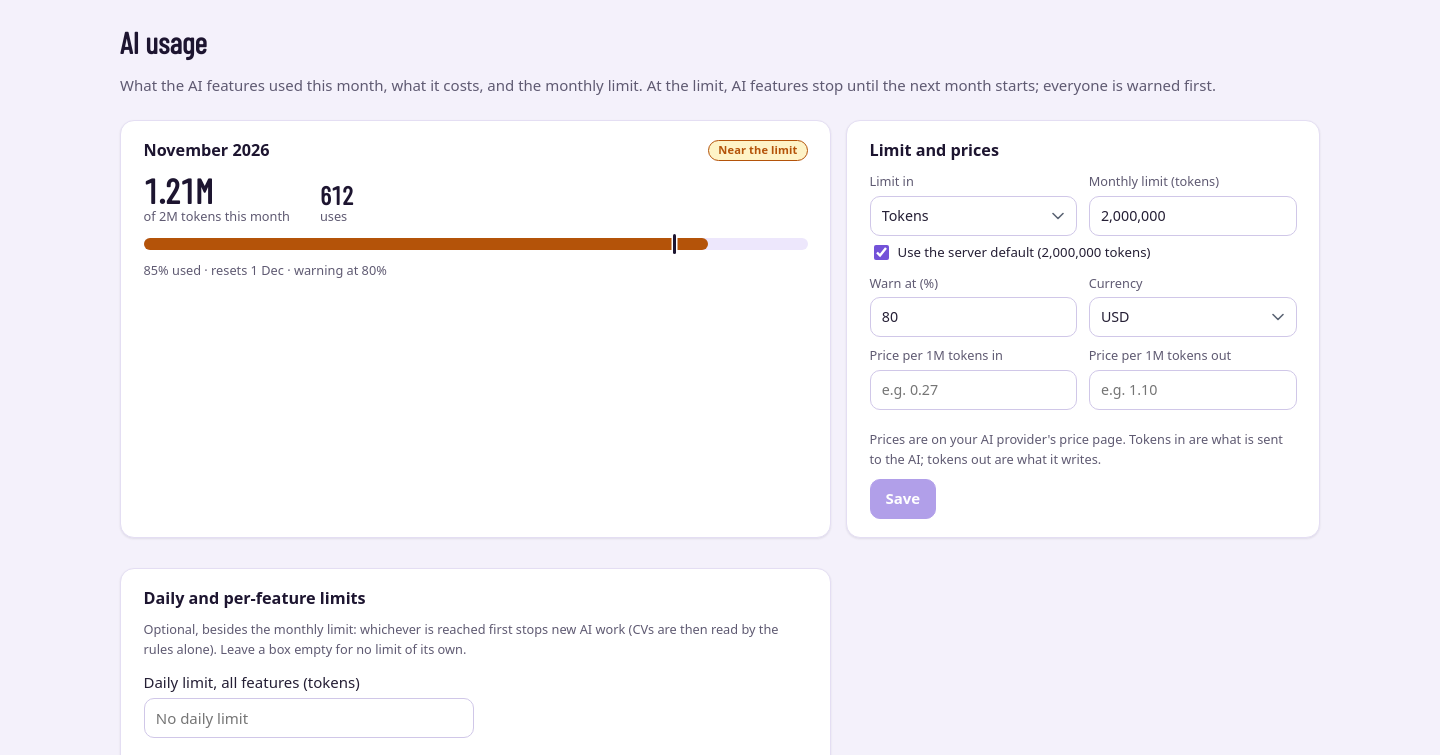
Test: Settings › AI usage › saves a money limit with its prices
Select "Money" in the dropdown labelled "Limit in": (973, 216) [870, 196, 1077, 236]
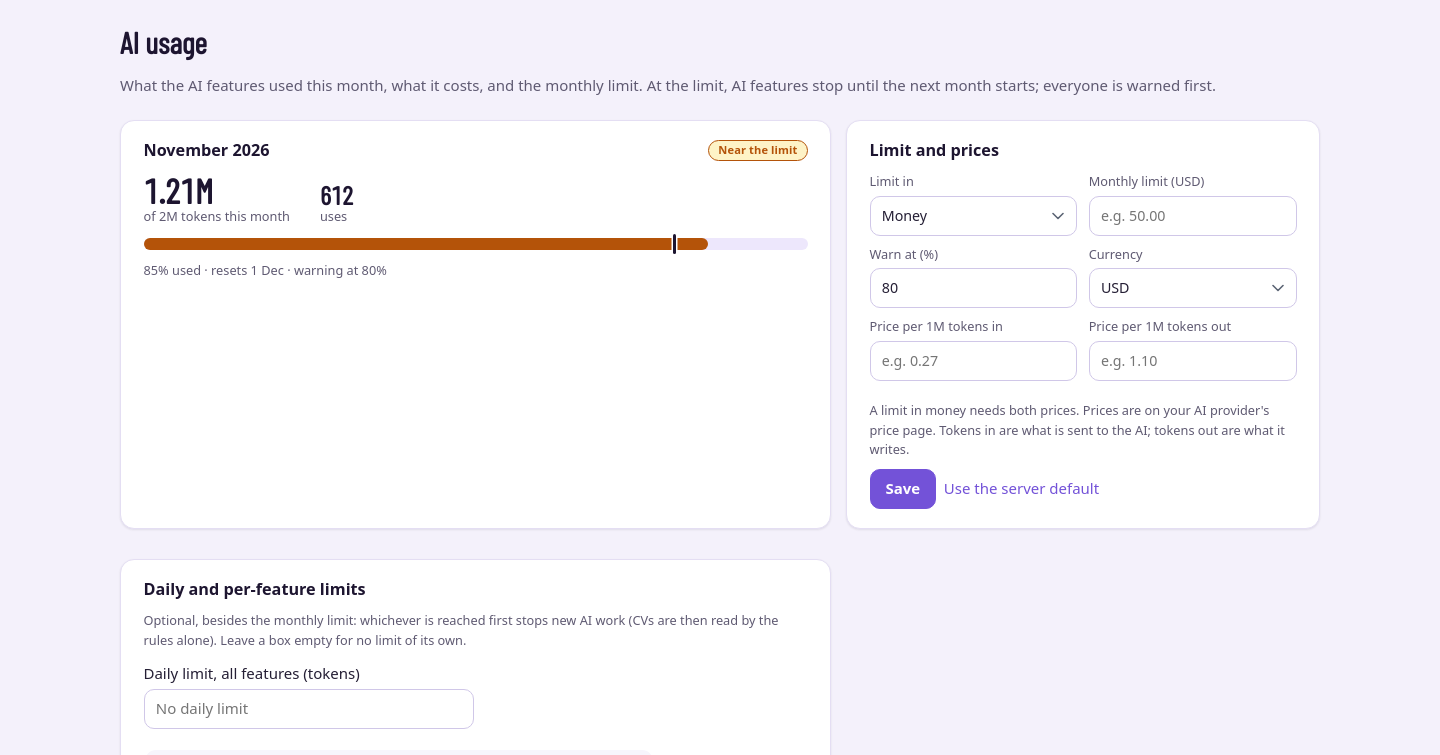
In the field labelled "Monthly limit (USD)": (1193, 216) [1089, 196, 1296, 236], type "1,000.50"
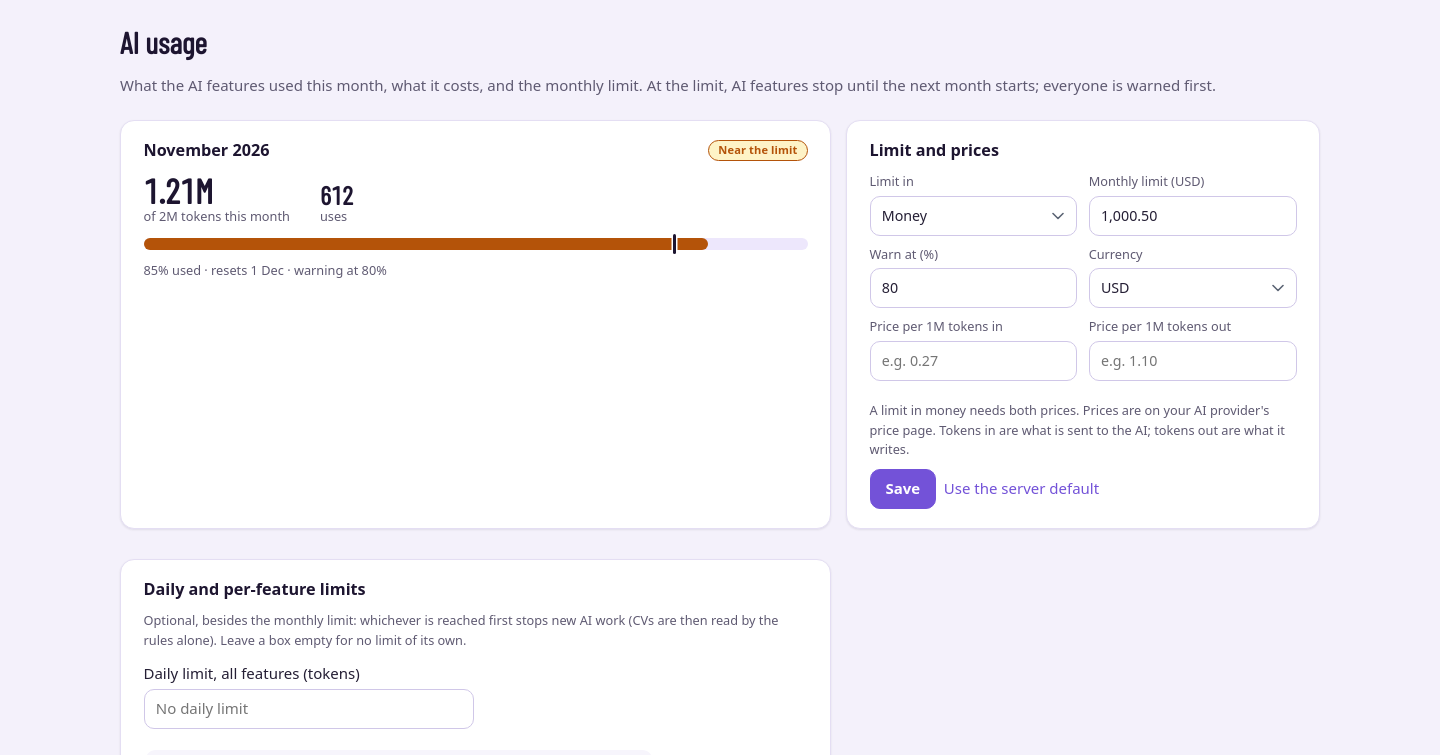
In the field labelled "Price per 1M tokens in": (973, 361) [870, 341, 1077, 381], type "0.27"
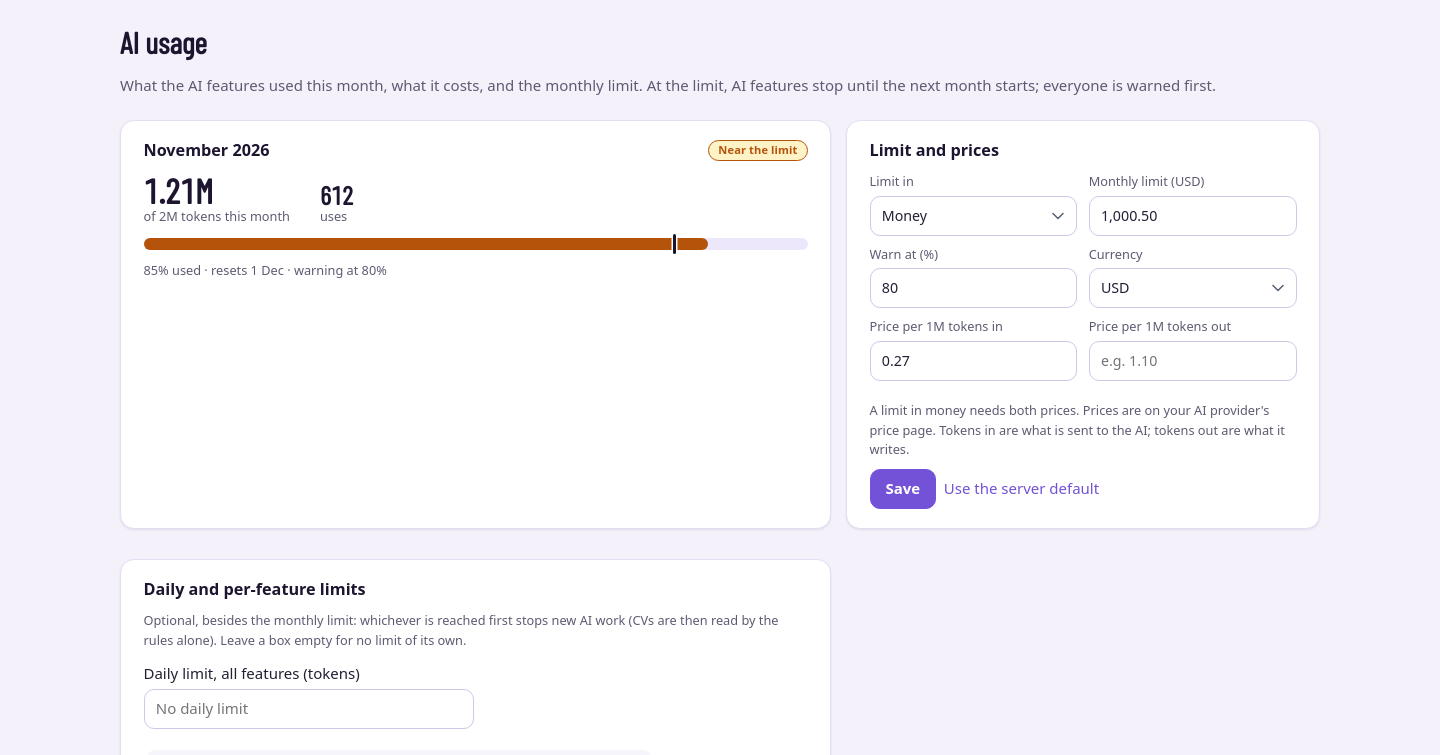
In the field labelled "Price per 1M tokens out": (1193, 361) [1089, 341, 1296, 381], type "1.10"
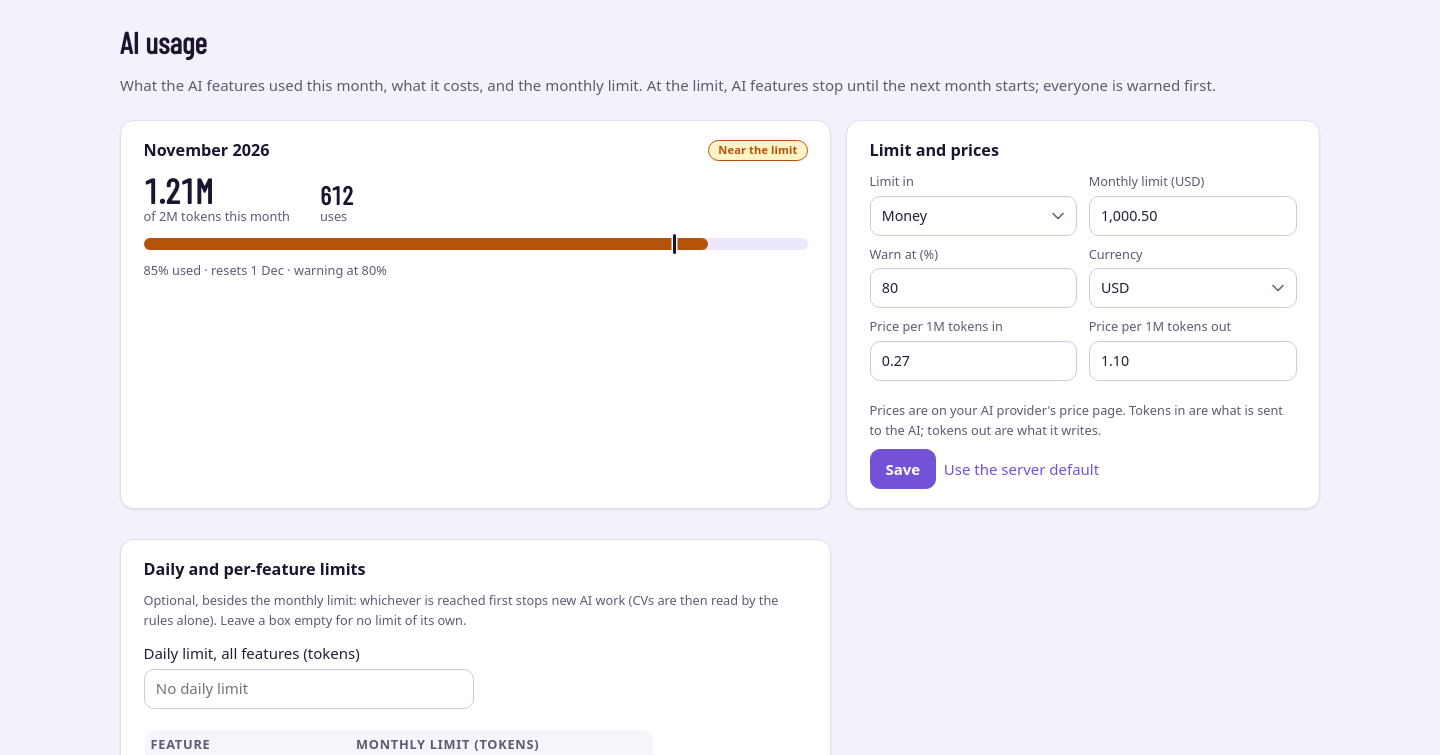
Replace the text in the field labelled "Warn at (%)" with "90": (973, 288) [870, 268, 1077, 308]
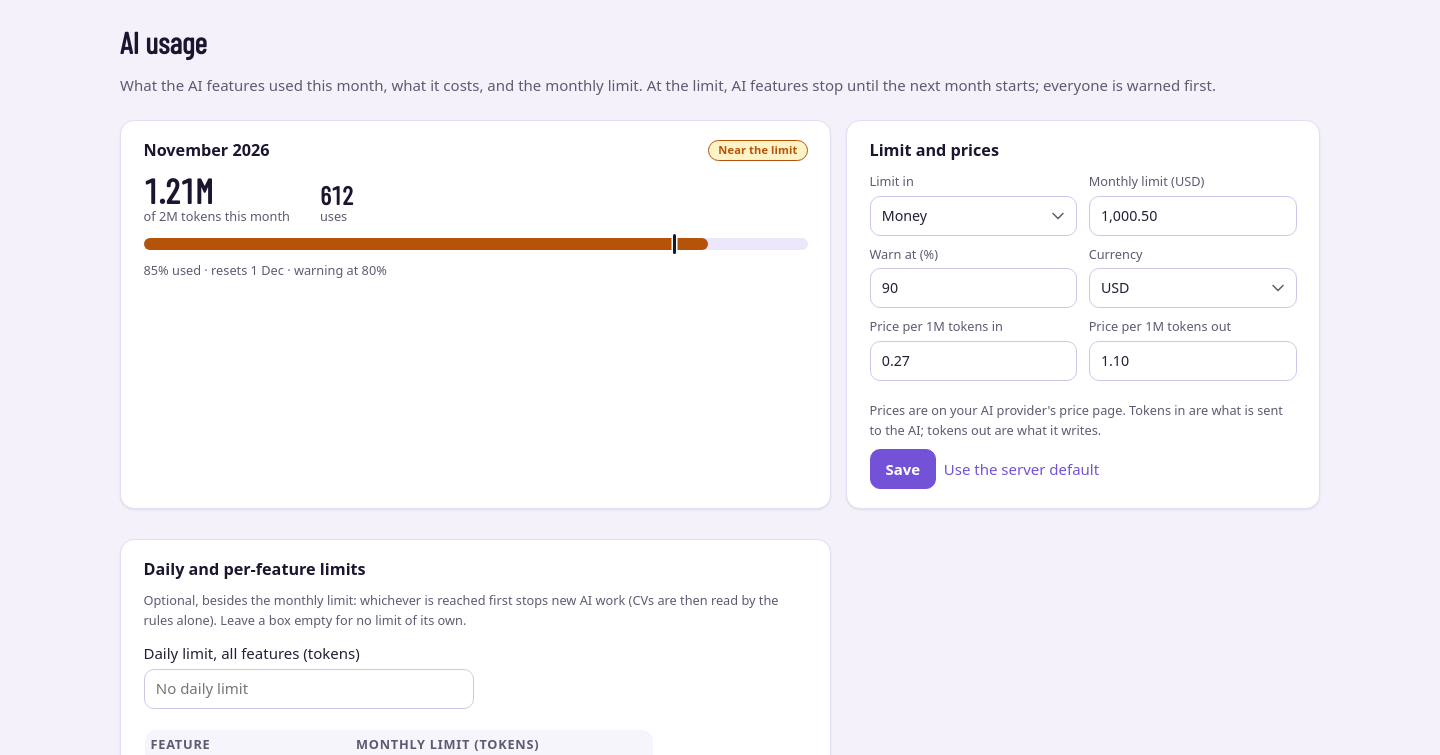
Click the button "Save": (903, 469) [870, 449, 936, 489]
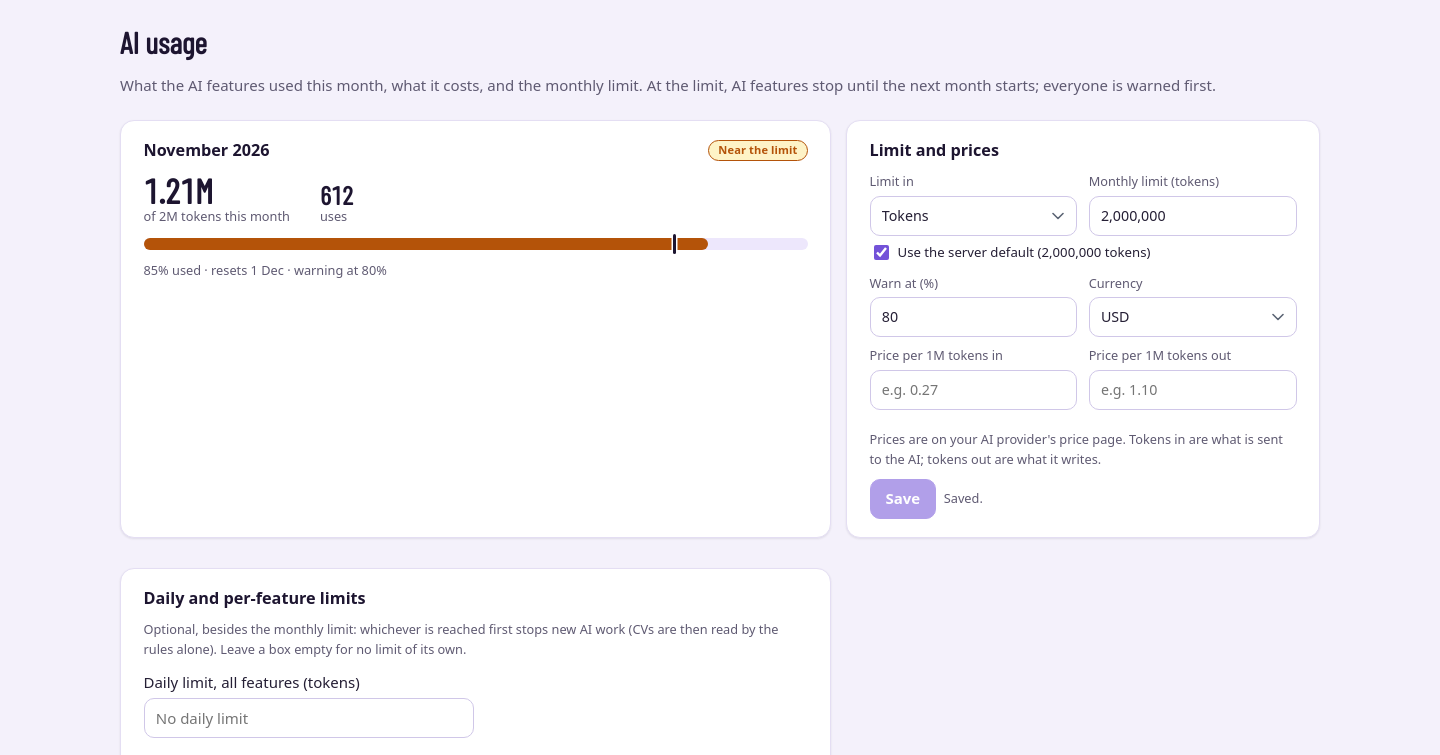
Check: the text "Saved." is shown, box [944, 489, 983, 508]
